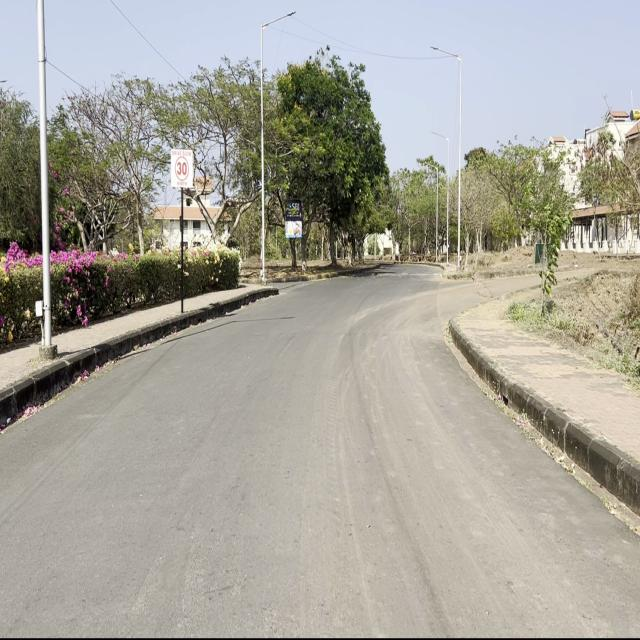Road: (3, 271, 634, 634)
